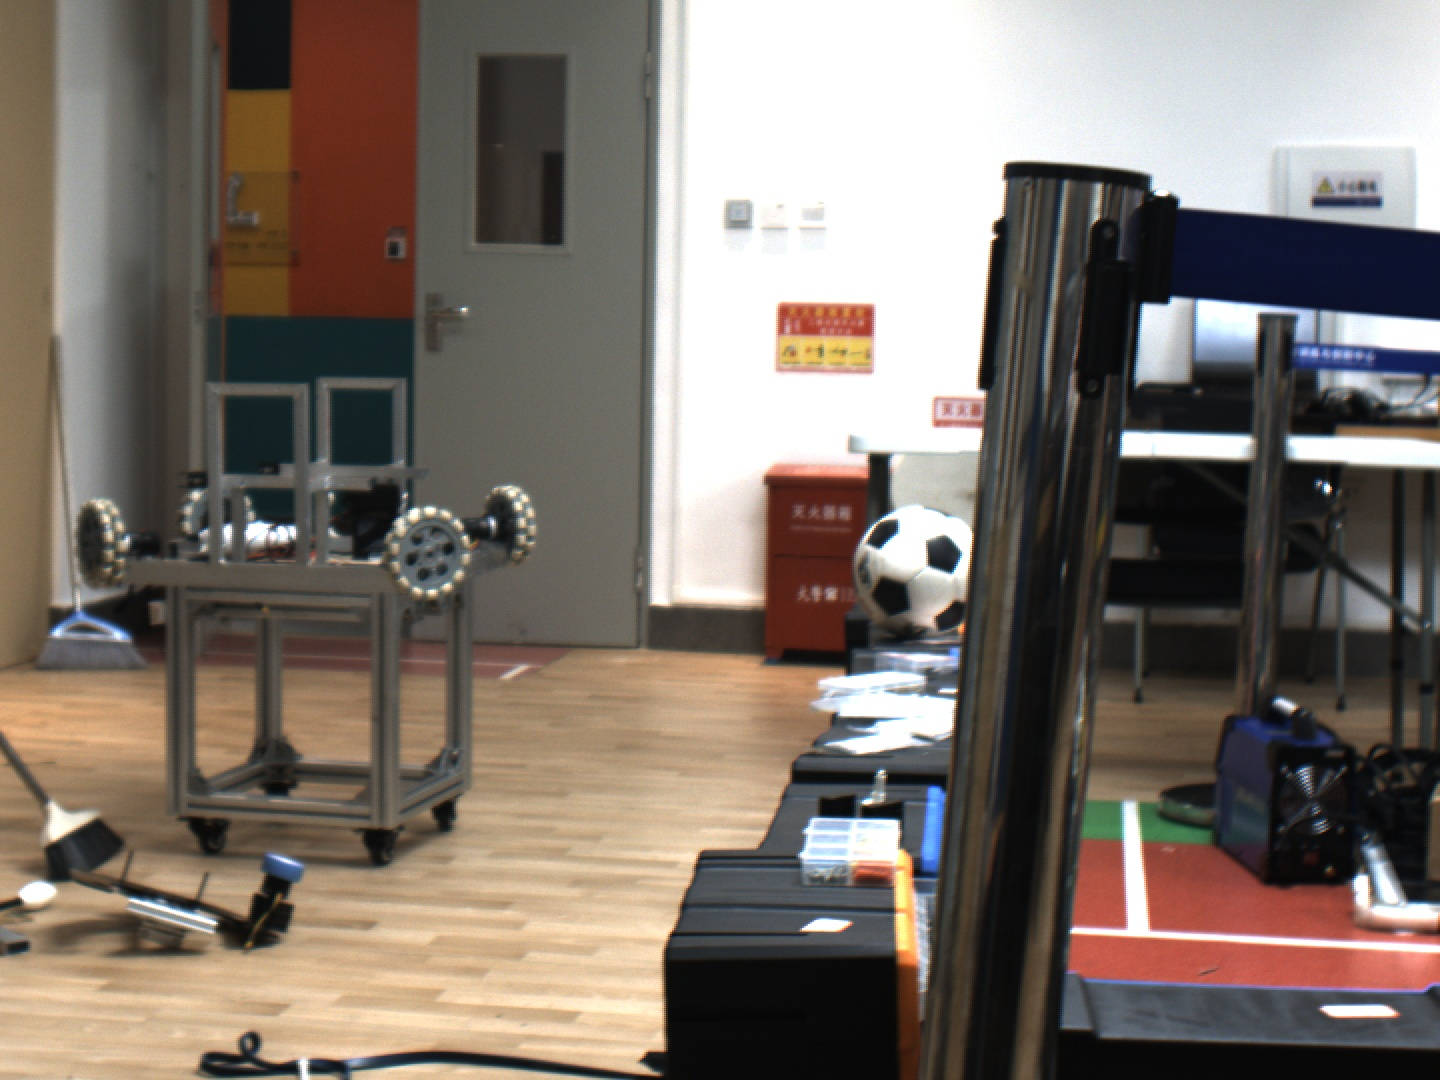ball: (832, 497, 1001, 641)
